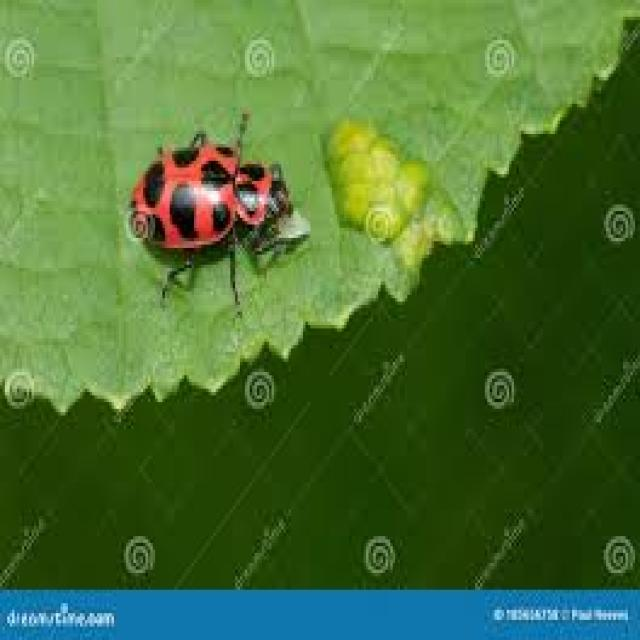bug: (126, 102, 306, 316)
